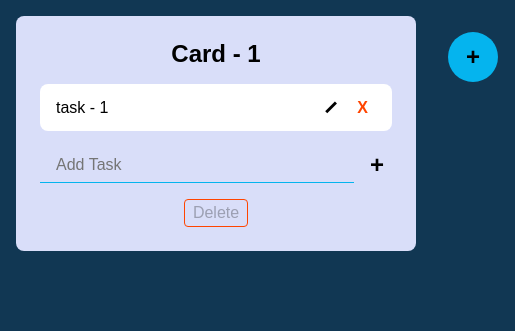
deletes a task in a column
The image size is (515, 331).
In the field with placeholder "Add Task": (197, 165) [40,148,354,182], type "foo"
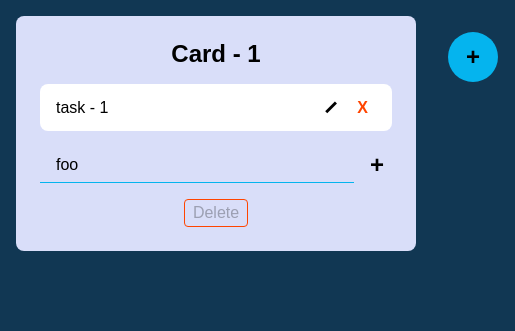
Click the button named "Add Task": (377, 165) [362,147,392,183]
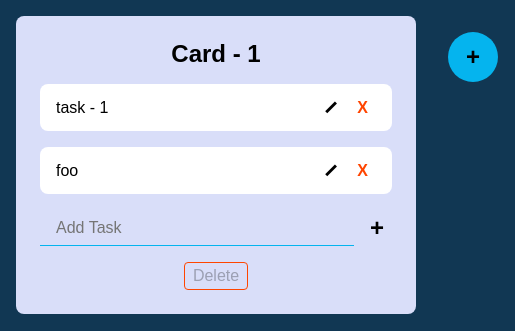
Click the button named "Delete Task": (363, 170) [349,158,376,184]
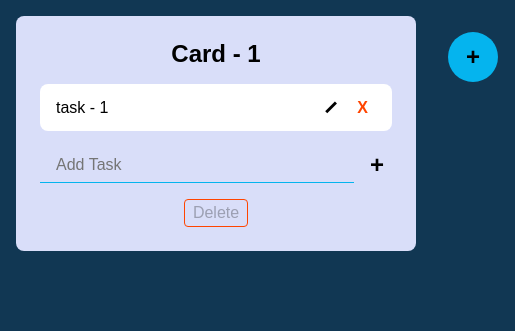
Expected: the text "foo" is gone
